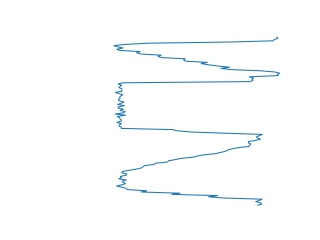distributaryChannelFill: (112, 70, 268, 142)
mouthBar: (111, 32, 284, 79)
underwaterDistributaryChannel: (111, 135, 266, 209)
